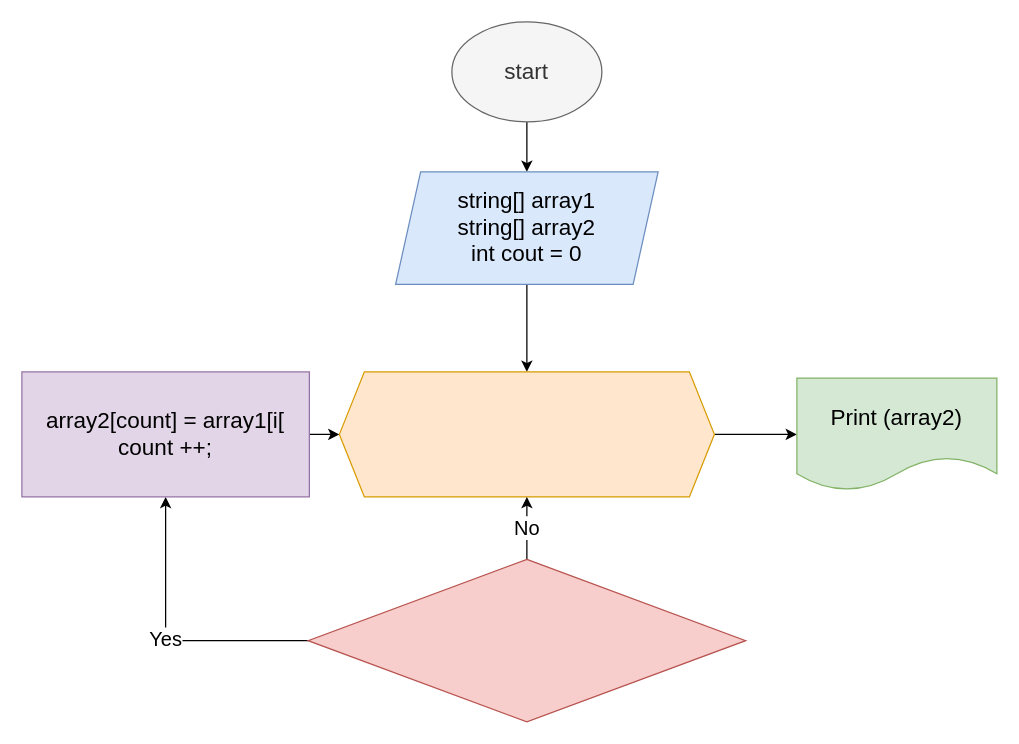
This 1019x744 diagram has some shape labels left out. Here are the shapes that lost their labels. From the top down, the centre of each, then its label:
point 526,434: for (int i = 0; i<array1.length; i++)
point 526,640: if (array1[i].length<=3)
